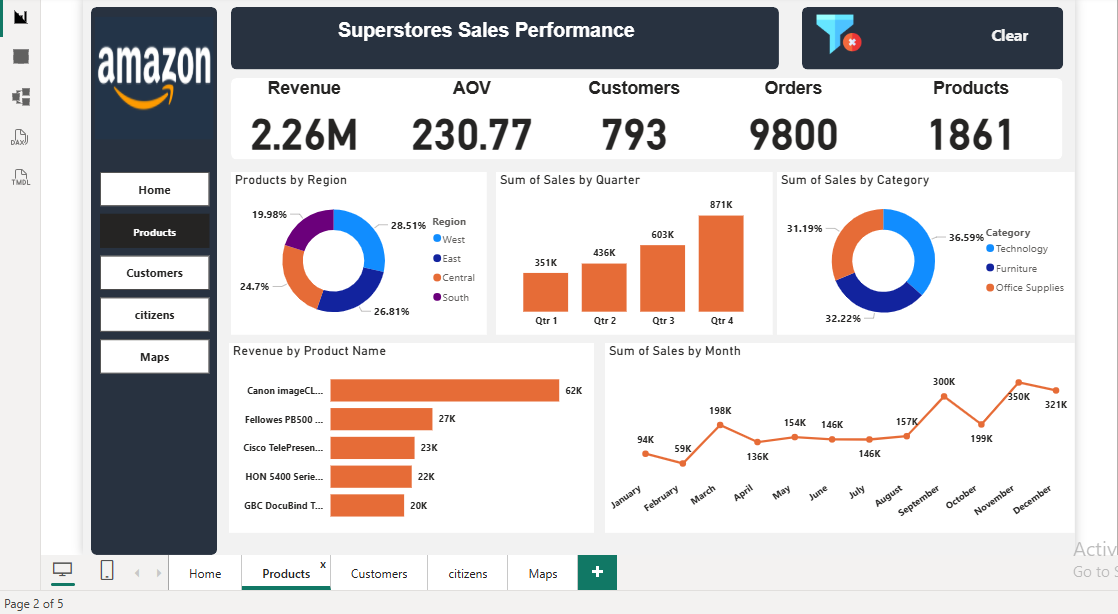

What the dashboard file says about the page in this screenshot:
{"tool":"powerbi","page":{"name":"Products","canvas":[1280,720],"ordinal":1},"visuals":[{"type":"shape","box":[191.5,13,707,80.6],"z":0},{"type":"shape","box":[927.4,13,337,80.6],"z":1000},{"type":"shape","box":[10.1,13,162.7,707],"z":2000},{"type":"shape","box":[191.5,105.1,1072.8,105.1],"z":3000},{"type":"card","title":"Revenue","fields":{"Values":["train.Revenue"]},"box":[191.5,105.1,188.6,105.1],"z":4000},{"type":"card","title":"Customers","fields":{"Values":["train.Customers"]},"box":[614.9,105.1,191.5,105.1],"z":5000},{"type":"card","title":"Orders","fields":{"Values":["train.Orders"]},"box":[806.4,105.1,220.3,105.1],"z":6000},{"type":"card","title":"Products","fields":{"Values":["train.Products"]},"box":[1026.7,105.1,237.6,105.1],"z":7000},{"type":"card","title":"AOV","fields":{"Values":["train.AOV"]},"box":[398.9,105.1,205.9,105.1],"z":8000},{"type":"clusteredBarChart","fields":{"Category":["train.Product Name"],"Y":["train.Revenue"]},"box":[188.6,446.4,470.9,244.8],"z":9000},{"type":"lineChart","fields":{"Category":["train.Order Date.Variation.Date Hierarchy.Month"],"Y":["Sum(train.Sales)"]},"box":[673.9,446.4,606.2,244.8],"z":10000},{"type":"donutChart","fields":{"Category":["train.Category"],"Y":["Sum(train.Sales)"]},"box":[895.7,226.1,384.5,210.2],"z":11000},{"type":"donutChart","fields":{"Category":["train.Region"],"Y":["train.Products"]},"box":[191.5,226.1,329.8,210.2],"z":12000},{"type":"columnChart","fields":{"Category":["train.Order Date.Variation.Date Hierarchy.Quarter"],"Y":["Sum(train.Sales)"]},"box":[532.8,226.1,357.1,210.2],"z":13000},{"type":"pageNavigator","box":[21.6,226.1,141.1,260.6],"z":14000},{"type":"image","box":[10.1,20.2,162.7,168.5],"z":15000},{"type":"textbox","title":"Superstores  Sales Performance ","box":[286.6,28.8,468,64.8],"z":16000},{"type":"image","box":[935.8,14.3,80.7,68.1],"z":18000},{"type":"actionButton","box":[1145.5,28.7,100.4,39.4],"z":19000}]}

Visuals, with their boxes on the page's 1280x720 design canvas (x1, y1, x2, y2). These are canvas units, not pixel positions in the 1118x614 screenshot, which may show the page scaled, cropped or inside an application window:
shape: (192, 13, 898, 94)
shape: (927, 13, 1264, 94)
shape: (10, 13, 173, 720)
shape: (192, 105, 1264, 210)
"Revenue" card: (192, 105, 380, 210)
"Customers" card: (615, 105, 806, 210)
"Orders" card: (806, 105, 1027, 210)
"Products" card: (1027, 105, 1264, 210)
"AOV" card: (399, 105, 605, 210)
clusteredBarChart - train.Product Name x train.Revenue: (189, 446, 660, 691)
lineChart - train.Order Date.Variation.Date Hierarchy.Month x Sum(train.Sales): (674, 446, 1280, 691)
donutChart - train.Category x Sum(train.Sales): (896, 226, 1280, 436)
donutChart - train.Region x train.Products: (192, 226, 521, 436)
columnChart - train.Order Date.Variation.Date Hierarchy.Quarter x Sum(train.Sales): (533, 226, 890, 436)
pageNavigator: (22, 226, 163, 487)
image: (10, 20, 173, 189)
"Superstores  Sales Performance " textbox: (287, 29, 755, 94)
image: (936, 14, 1016, 82)
actionButton: (1146, 29, 1246, 68)
